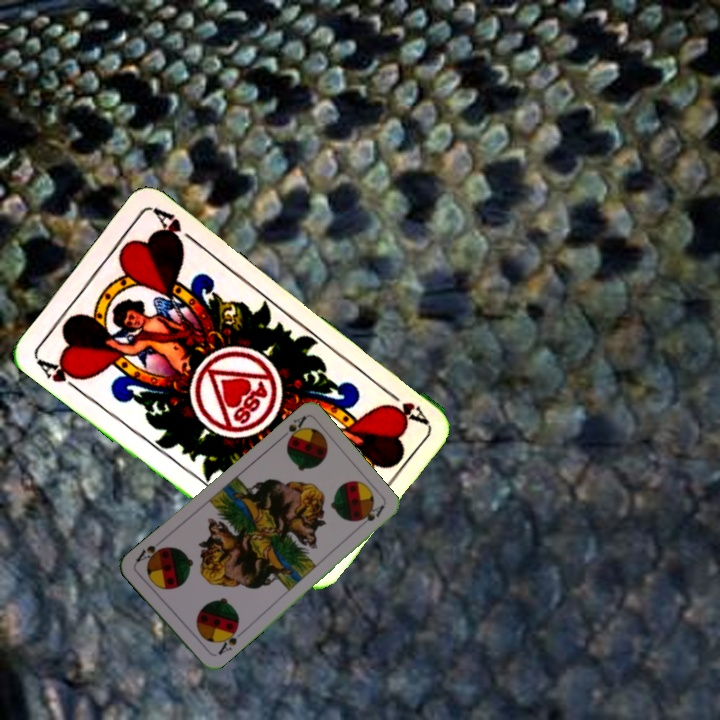HA: (378, 383, 430, 427), (32, 355, 87, 396)
SA: (275, 412, 310, 447), (214, 624, 245, 657)
